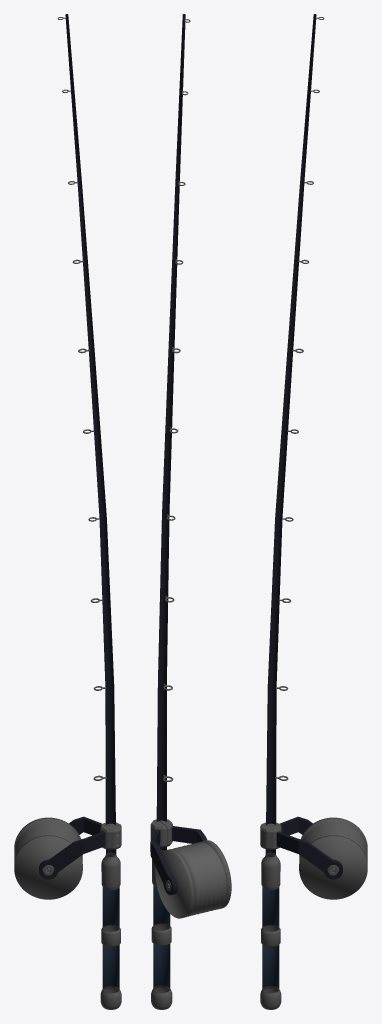
File: caña_ww_1.glb
3 views of the same model, side by side, from view 1: azimuth 90°, elevation 25°; view 2: azimuth 210°, elevation 25°; view 3: azimuth 270°, elevation 25° (orthographic).
Visible parts, largest first — view 1: Aro; view 2: Aro; view 3: Aro.
Boxes of the visible parts, x1,y1,x2,y2 form: Aro: (14, 14, 121, 1009); Aro: (150, 14, 231, 1009); Aro: (260, 14, 367, 1009).
Size of the model in its own units: 5.6 by 105 by 10.33.
